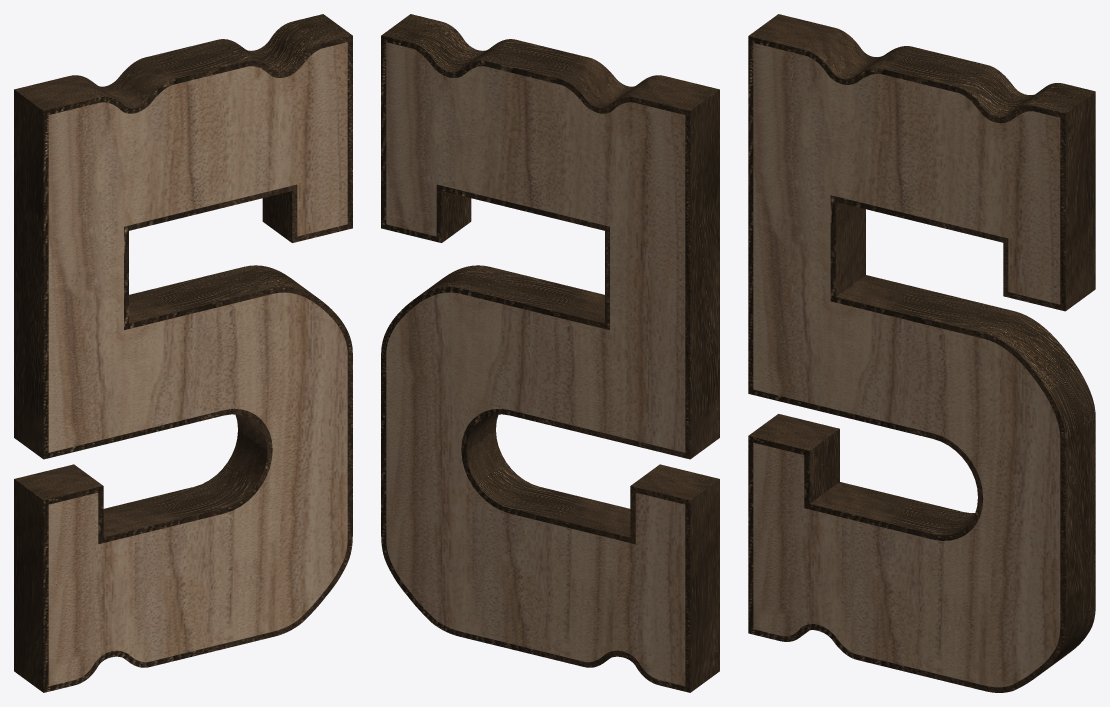
3 views of the same model, side by side, from view 1: azimuth 30°, elevation 25°; view 2: azimuth 150°, elevation 25°; view 3: azimuth 330°, elevation 25° (orthographic). The views are drawn at different scales.
Parts seen in each view (by area): view 1: 5, 5_outline; view 2: 5, 5_outline; view 3: 5, 5_outline.
Part boxes in pixels (<box>): 5: <box>48,42,347,686</box>; 5_outline: <box>14,14,352,692</box>; 5: <box>386,42,685,686</box>; 5_outline: <box>381,14,719,692</box>; 5: <box>753,43,1060,687</box>; 5_outline: <box>748,14,1095,692</box>.
Bounding box in the file's own units: 60.5 × 109 × 10.
2 materials, 2 textured.
